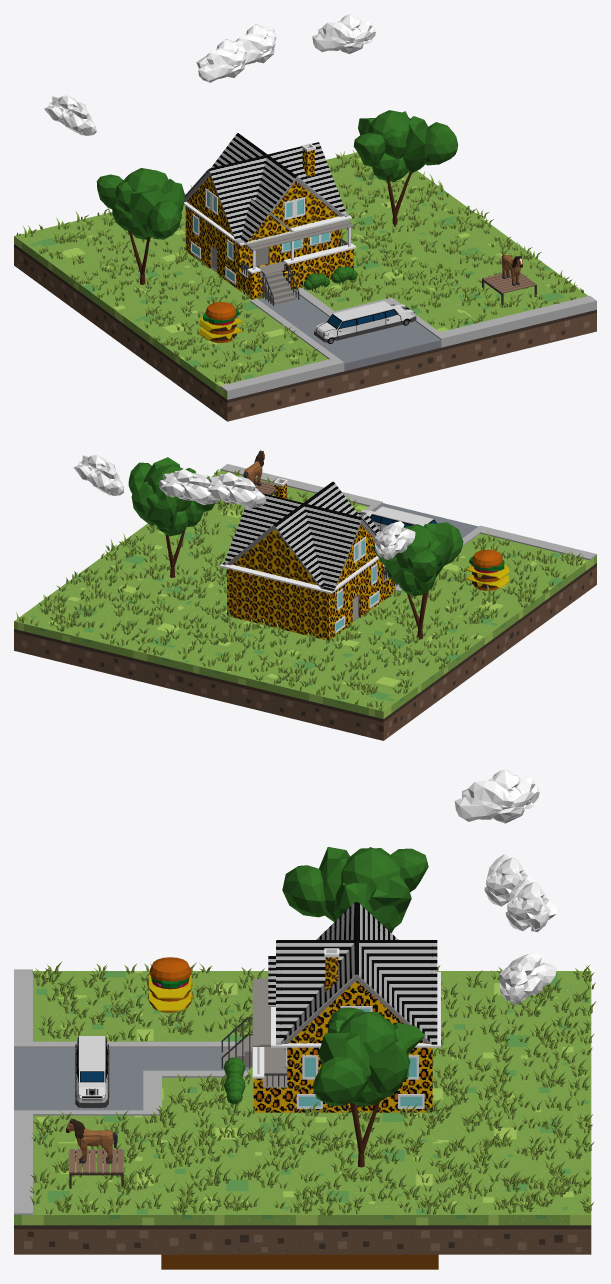
The picture shows the model from 3 angles, top to bottom: view 1: azimuth 30°, elevation 25°; view 2: azimuth 150°, elevation 25°; view 3: azimuth 270°, elevation 25°; orthographic projection. The views are drawn at different scales.
Parts seen in each view (by area): view 1: Cube.006, Cube.637, Circle.012_Grass_0.192, Cube.007, tree, tree.001, VEHICLES_LIMOUSINE, OBJRANDOM_HAMBURGER, Cube.009; view 2: Cube.006, Cube.637, Circle.012_Grass_0.192, Cube.007, tree.001, tree, OBJRANDOM_HAMBURGER, VEHICLES_LIMOUSINE, ANIMAL_CABALLO; view 3: Cube.006, Circle.012_Grass_0.192, Cube.637, tree, Cube.007, tree.001, UNDERGROUND_ART_PIECE_VAN_GOGH, VEHICLES_LIMOUSINE, OBJRANDOM_HAMBURGER, Cube.009, ANIMAL_CABALLO.
Part boxes in pixels (left/top/right/bottom): Cube.006: left=14, top=152, right=596, bottom=421; Cube.637: left=183, top=133, right=356, bottom=305; Circle.012_Grass_0.192: left=16, top=150, right=583, bottom=383; Cube.007: left=44, top=14, right=375, bottom=135; tree: left=353, top=110, right=457, bottom=226; tree.001: left=96, top=168, right=184, bottom=284; VEHICLES_LIMOUSINE: left=314, top=301, right=416, bottom=343; OBJRANDOM_HAMBURGER: left=199, top=302, right=242, bottom=342; Cube.009: left=482, top=271, right=536, bottom=304; Cube.006: left=14, top=464, right=596, bottom=740; Cube.637: left=219, top=478, right=395, bottom=640; Circle.012_Grass_0.192: left=16, top=469, right=583, bottom=710; Cube.007: left=73, top=454, right=415, bottom=559; tree.001: left=372, top=522, right=463, bottom=639; tree: left=128, top=457, right=215, bottom=577; OBJRANDOM_HAMBURGER: left=465, top=549, right=509, bottom=590; VEHICLES_LIMOUSINE: left=358, top=506, right=436, bottom=531; ANIMAL_CABALLO: left=243, top=450, right=264, bottom=486; Cube.006: left=14, top=969, right=591, bottom=1254; Circle.012_Grass_0.192: left=29, top=961, right=596, bottom=1216; Cube.637: left=221, top=901, right=440, bottom=1112; tree: left=312, top=1007, right=425, bottom=1167; Cube.007: left=454, top=769, right=556, bottom=1004; tree.001: left=282, top=847, right=428, bottom=932; UNDERGROUND_ART_PIECE_VAN_GOGH: left=161, top=1254, right=438, bottom=1269; VEHICLES_LIMOUSINE: left=75, top=1036, right=109, bottom=1107; OBJRANDOM_HAMBURGER: left=147, top=957, right=192, bottom=1012; Cube.009: left=69, top=1148, right=123, bottom=1188; ANIMAL_CABALLO: left=66, top=1118, right=117, bottom=1163.
Bounding box in the file's own units: 4071 × 2301 × 4040.
39 materials, 5 textured.
